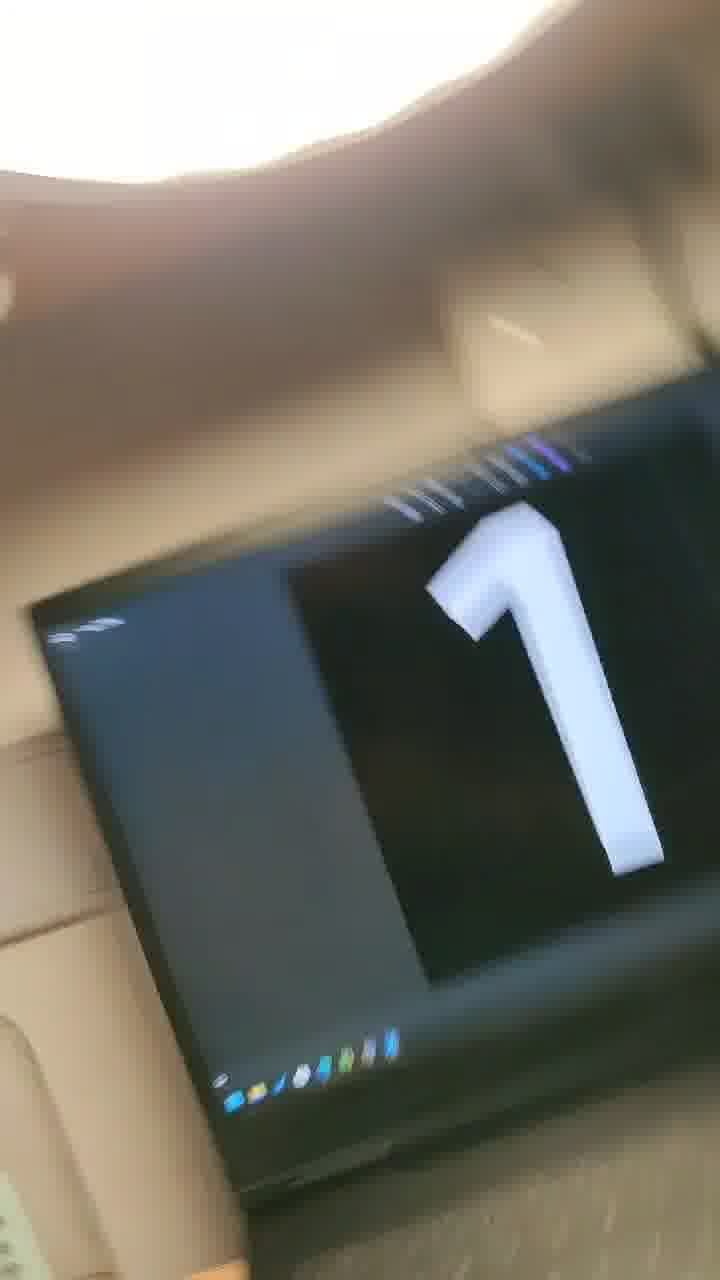one: (336, 429, 715, 926)
